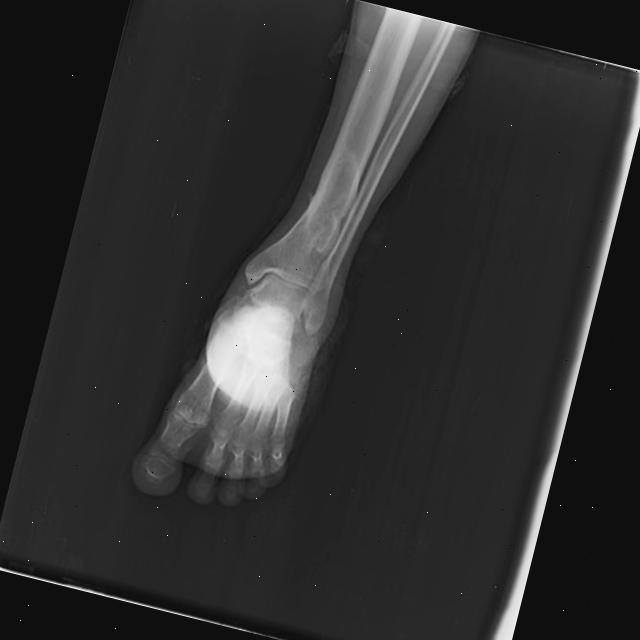Fracture: (303, 152, 361, 259)
